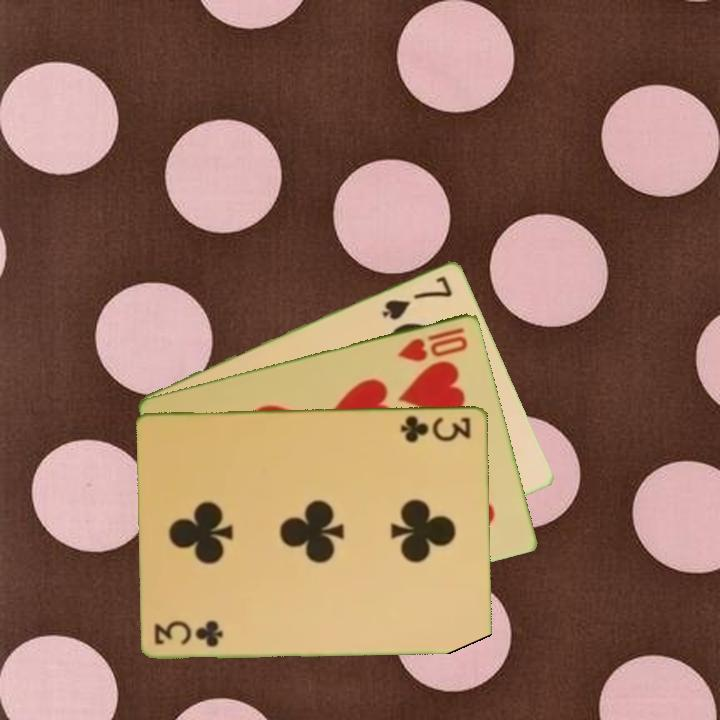10h: (394, 323, 471, 365)
3c: (397, 411, 475, 444), (151, 619, 227, 650)
7s: (379, 272, 456, 323)
